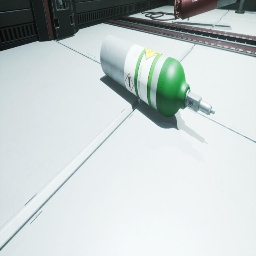0: (100, 35, 215, 117)
NitrogenTank ,: (174, 0, 237, 20)
